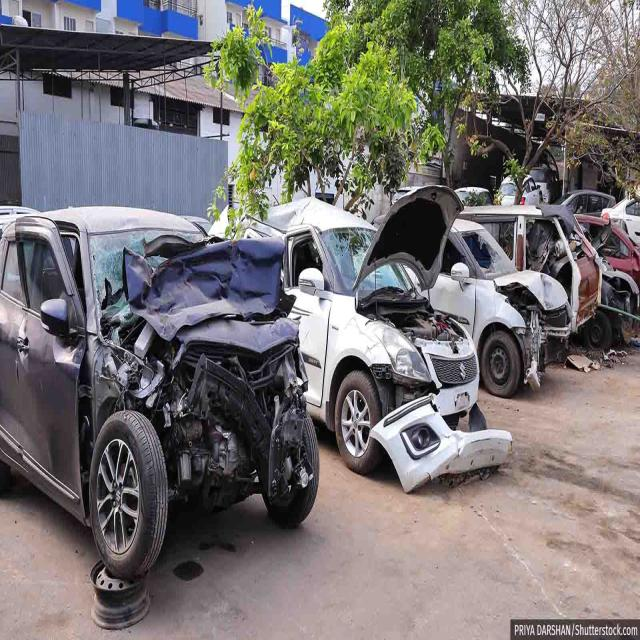accident: (0, 207, 320, 627), (248, 187, 511, 491), (429, 218, 570, 398), (460, 204, 601, 332)
